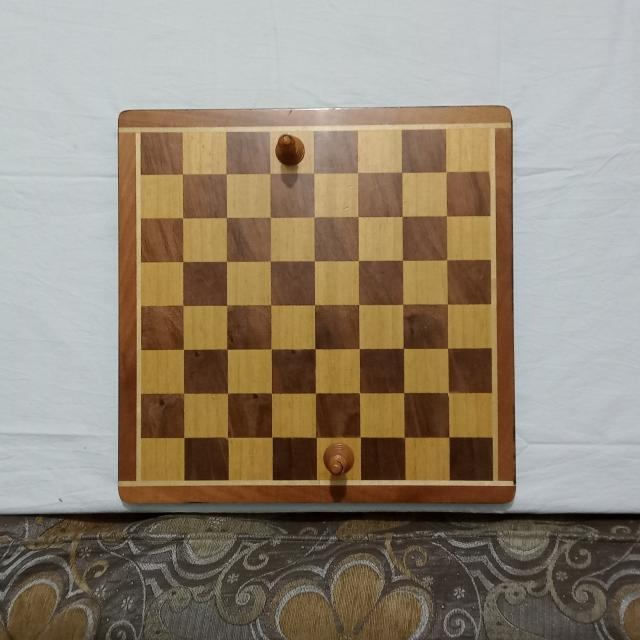white-bishop: (274, 129, 309, 166), (323, 440, 357, 476)
